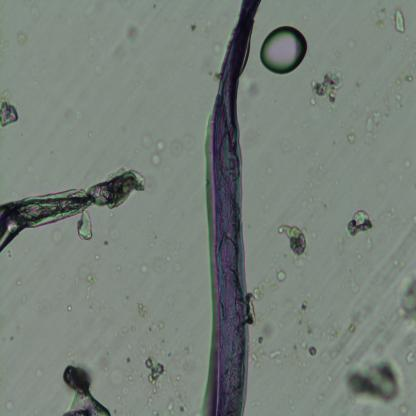Air bubble: (258, 25, 309, 75)
Background material: (322, 308, 374, 361), (346, 352, 401, 402), (60, 363, 112, 415), (66, 261, 104, 323), (141, 339, 174, 392), (274, 220, 312, 266), (307, 70, 346, 113), (110, 14, 145, 61), (90, 27, 112, 77), (393, 276, 416, 323), (370, 3, 398, 41), (166, 130, 200, 160), (129, 300, 160, 332), (345, 207, 374, 240), (388, 60, 416, 94), (168, 337, 193, 375), (249, 277, 268, 324), (0, 88, 20, 130), (297, 299, 317, 339), (127, 257, 168, 276), (364, 105, 386, 140), (270, 128, 297, 155), (287, 348, 312, 377), (162, 392, 193, 415), (380, 205, 406, 229), (246, 77, 266, 102), (150, 137, 166, 167), (10, 26, 31, 48), (393, 4, 406, 35), (0, 390, 18, 412), (398, 155, 410, 183), (35, 298, 53, 316), (273, 267, 290, 286), (402, 328, 416, 351), (271, 347, 284, 366), (323, 371, 335, 390), (404, 348, 416, 366), (31, 366, 45, 380), (394, 92, 404, 110), (307, 342, 317, 359), (347, 130, 358, 145), (186, 18, 199, 30), (380, 184, 388, 198), (56, 233, 65, 245), (15, 275, 23, 287)
Cellulose filter fibre: (0, 168, 147, 253)
Cotton: (201, 0, 261, 416)
